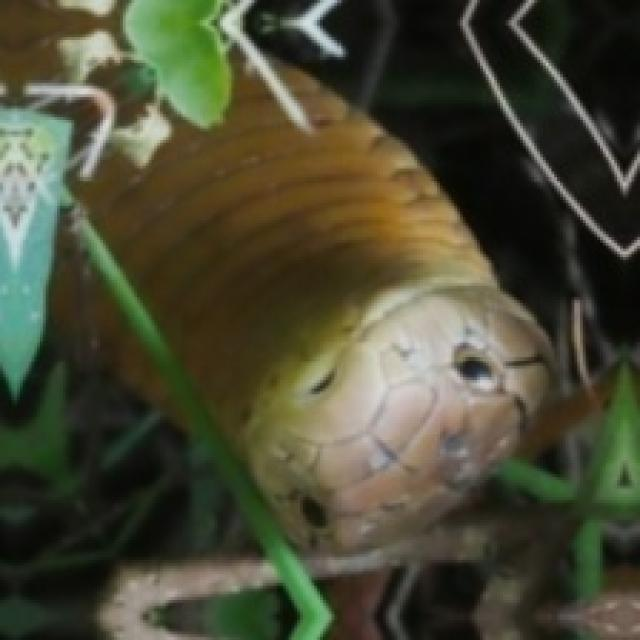king cobra: (75, 52, 552, 551), (0, 0, 120, 84)
